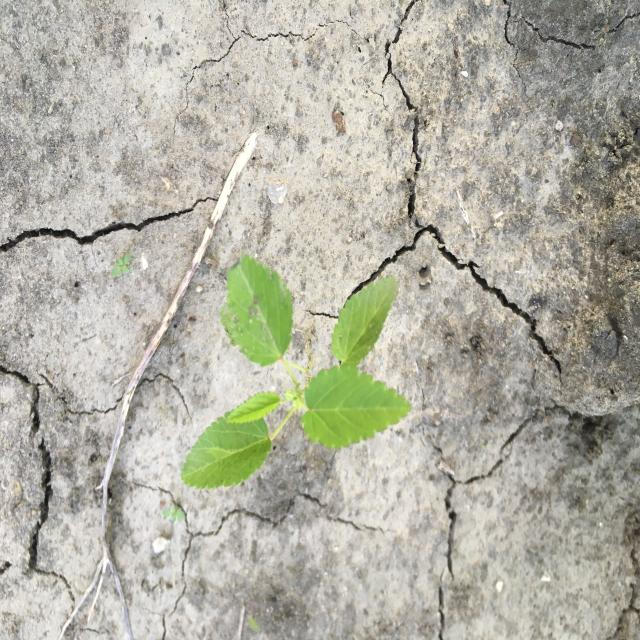PricklySida: (179, 250, 414, 492)
